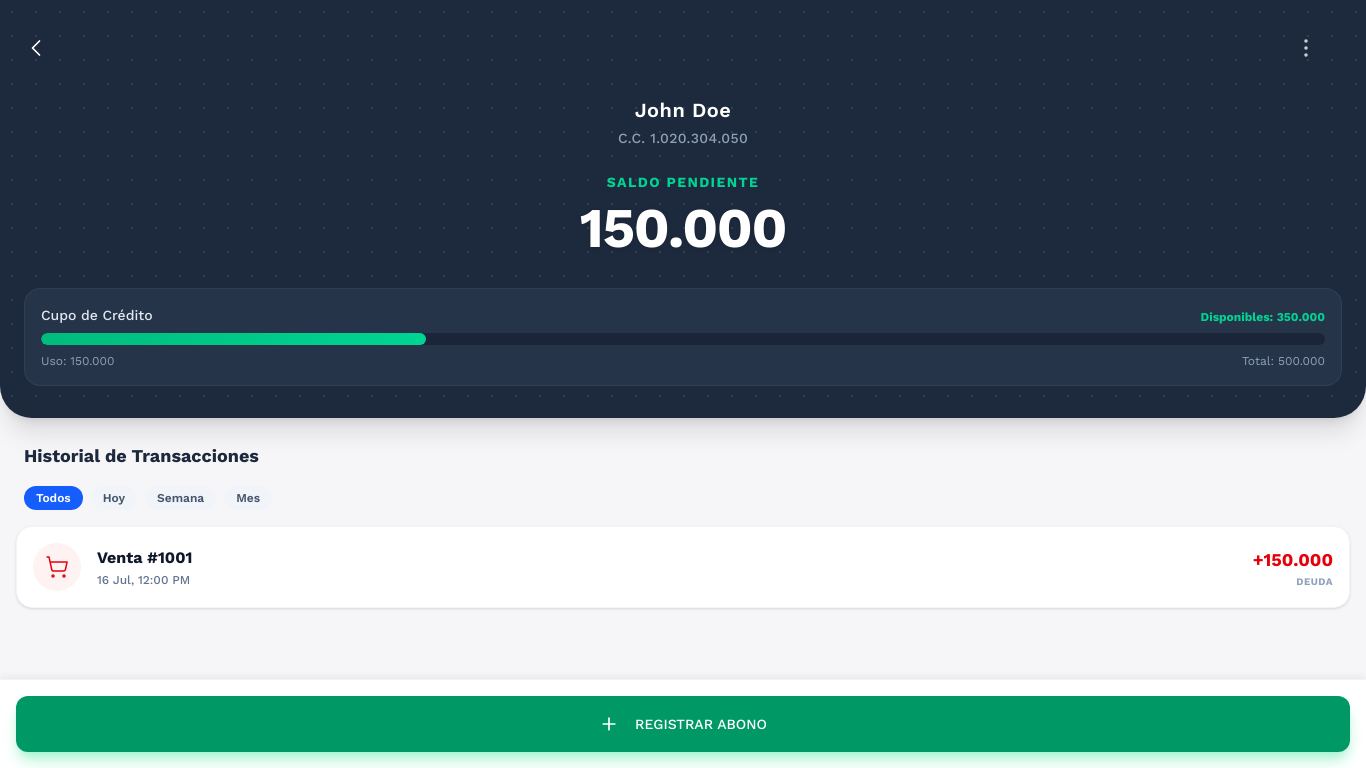
ClientDetailView.vue › prevents client deletion if they have outstanding debt
The width and height of the screenshot is (1366, 768).
Note: Open options menu
Step 1. Click the button named "Opciones" → click(1306, 48), box [1286,28,1326,68]
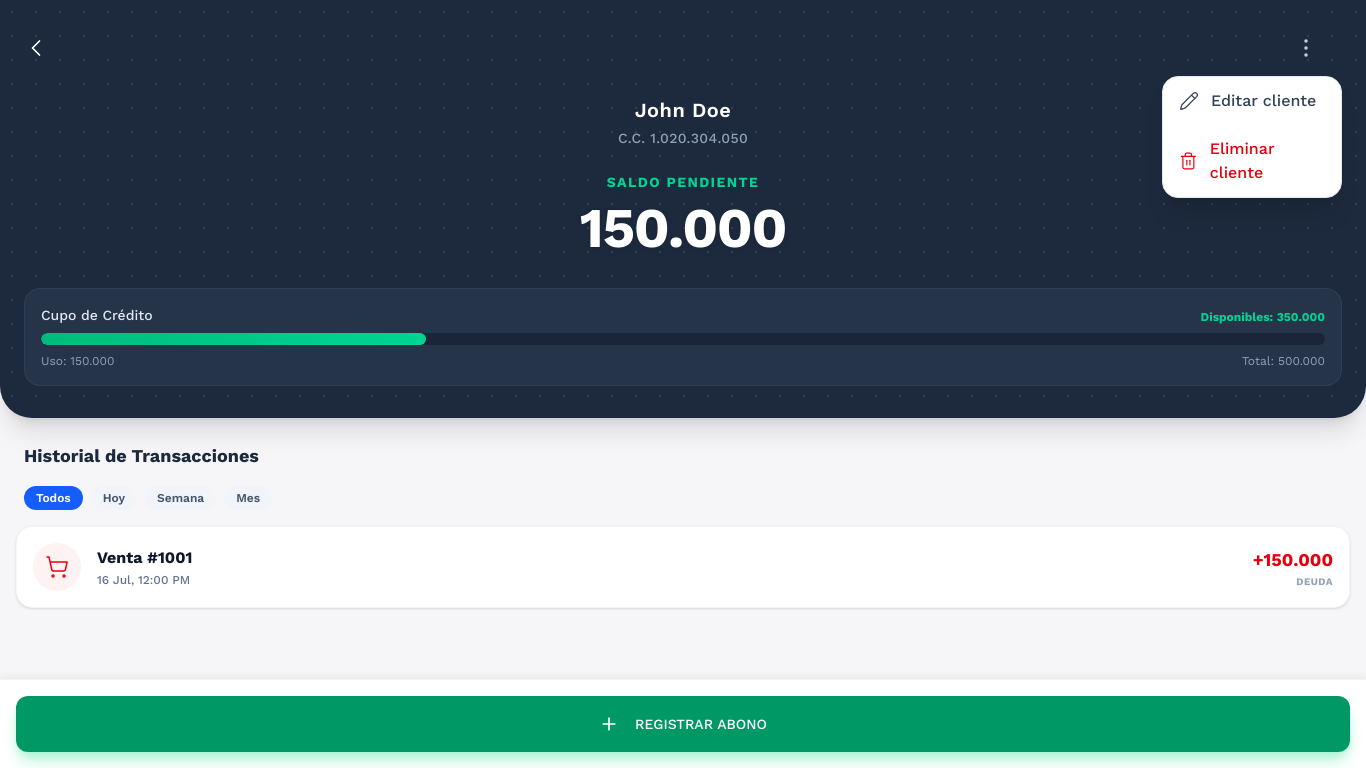
Now the button "Eliminar cliente" is shown
Step 2. Click the button "Eliminar cliente" → click(1252, 161), box [1163,125,1341,197]
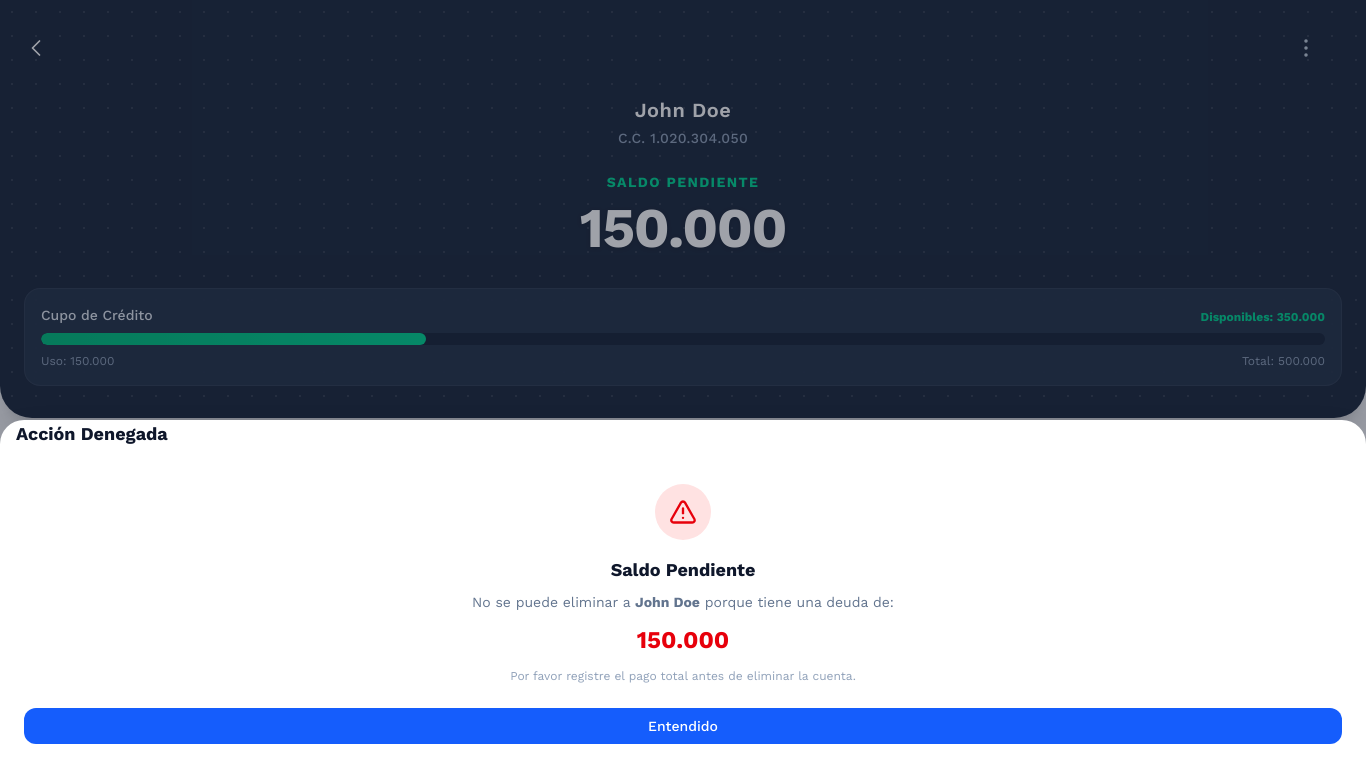
Now the text "Acción Denegada" is shown, box [16,420,168,448]
Now the text "No se puede eliminar a John Doe porque tiene una deuda de:" is shown, box [472,594,894,610]
